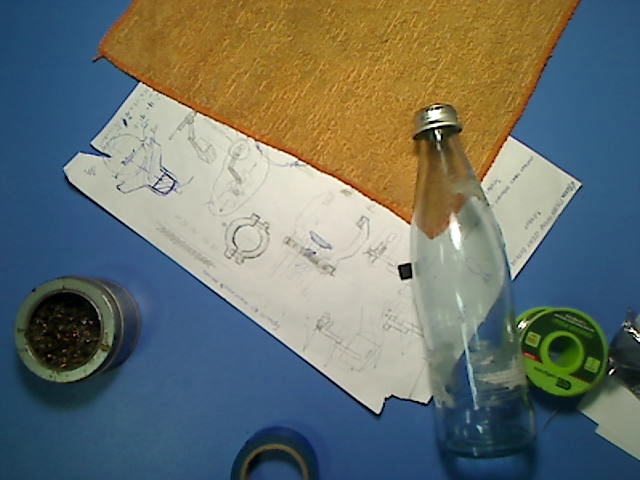bottle: (410, 99, 539, 460)
